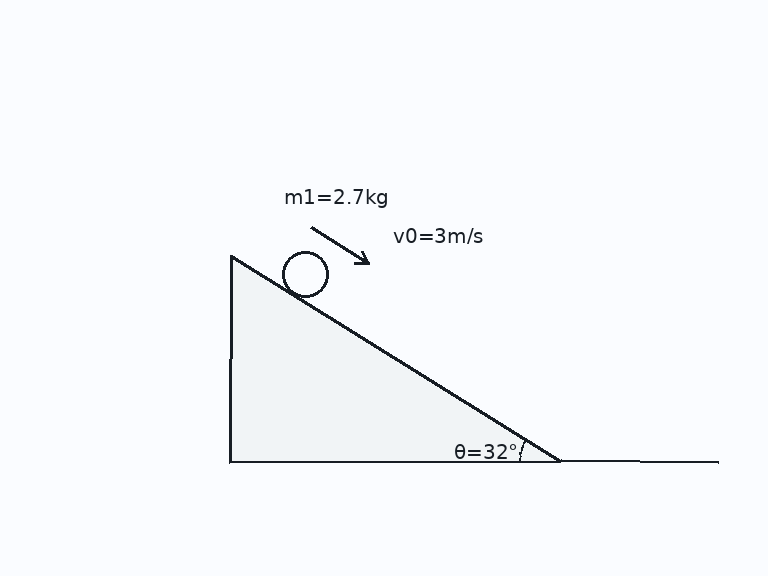ball: (280, 249, 330, 299)
ramp: (228, 253, 562, 463)
